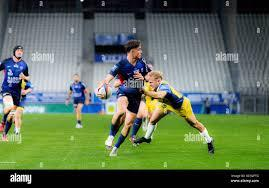ballon_rugby: (96, 82, 113, 101)
